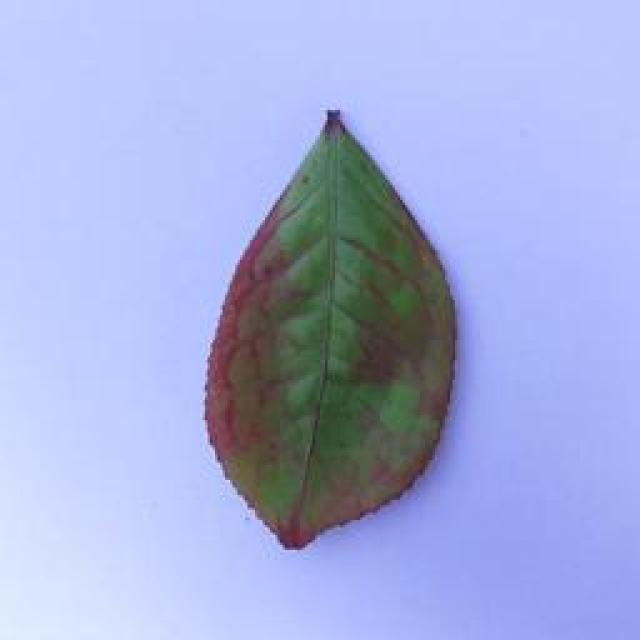Red Leaf Spot: (183, 97, 478, 556)
